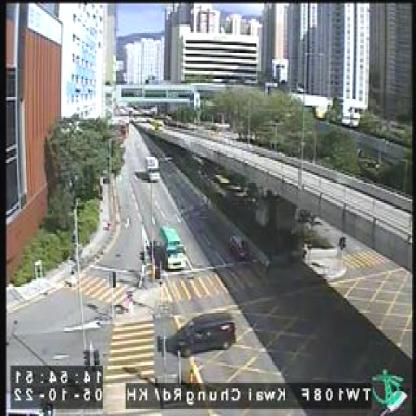Car: (169, 312, 235, 355), (230, 231, 251, 258), (147, 154, 159, 177)
Minibus: (162, 224, 186, 267)
